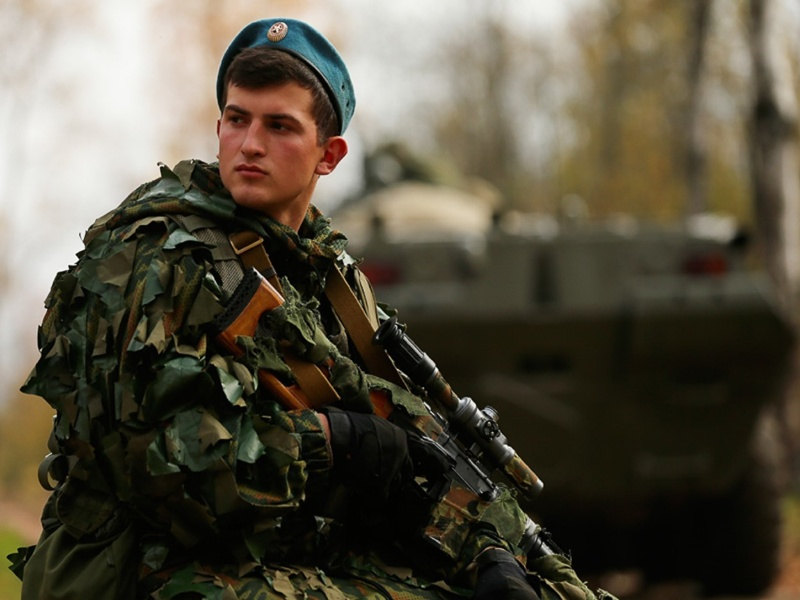person: (5, 18, 461, 600)
weapon: (210, 267, 620, 600)
